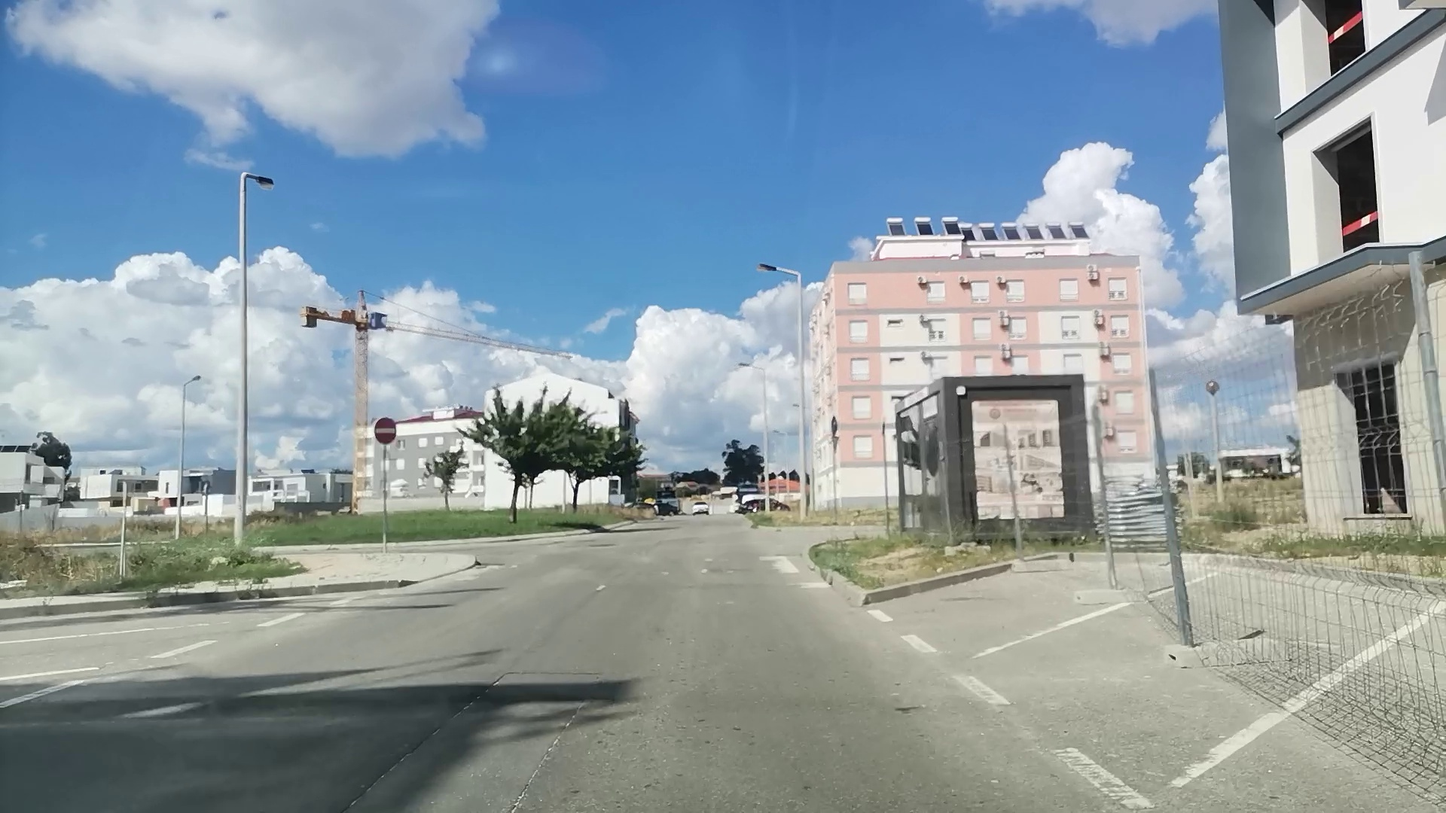Stairs: (456, 555, 801, 580)
